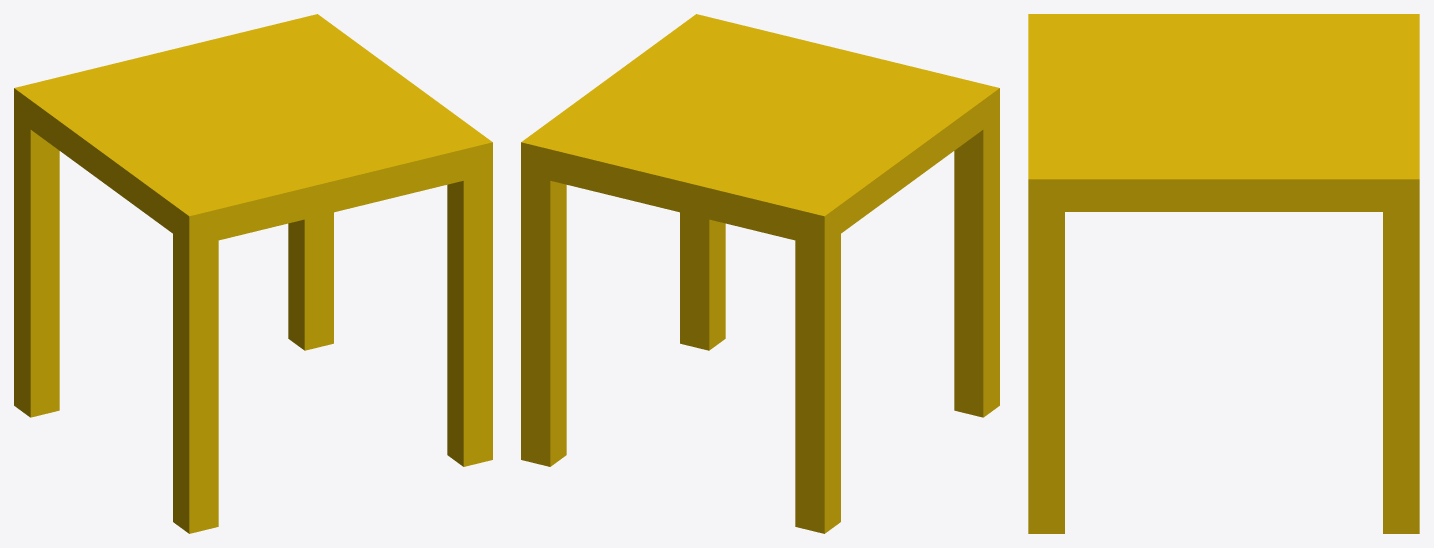
File: VIS_Table.dae
3 views of the same model, side by side, from view 1: azimuth 30°, elevation 25°; view 2: azimuth 150°, elevation 25°; view 3: azimuth 270°, elevation 25° (orthographic). The views are drawn at different scales.
Visible parts, largest first — view 1: VIS_COL_COL_VIS_VIS_VIS_VIS_VIS_VIS_VIS_Table_0_0_0_0_0_0_0_; view 2: VIS_COL_COL_VIS_VIS_VIS_VIS_VIS_VIS_VIS_Table_0_0_0_0_0_0_0_; view 3: VIS_COL_COL_VIS_VIS_VIS_VIS_VIS_VIS_VIS_Table_0_0_0_0_0_0_0_.
Boxes of the visible parts, x1=… form: VIS_COL_COL_VIS_VIS_VIS_VIS_VIS_VIS_VIS_Table_0_0_0_0_0_0_0_: x1=14, y1=14, x2=492, y2=533; VIS_COL_COL_VIS_VIS_VIS_VIS_VIS_VIS_VIS_Table_0_0_0_0_0_0_0_: x1=521, y1=14, x2=999, y2=533; VIS_COL_COL_VIS_VIS_VIS_VIS_VIS_VIS_VIS_Table_0_0_0_0_0_0_0_: x1=1028, y1=14, x2=1419, y2=533.
Size of the model in its own units: 1 by 1 by 1.
